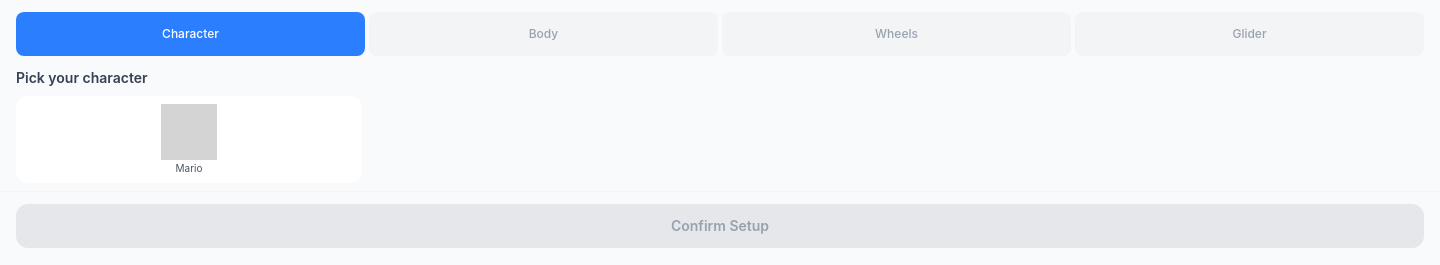
it: RaceSetupPicker › jumps directly to a step when its indicator pill is clicked
Click the button "Body": (544, 34) [369, 12, 718, 56]
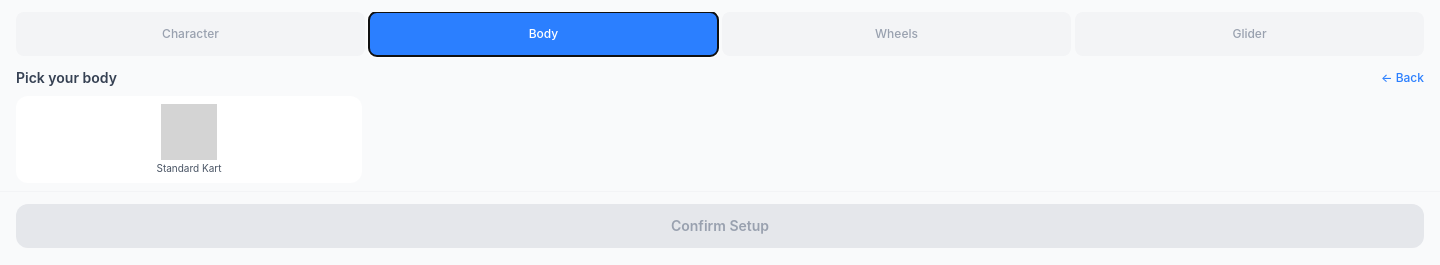
Expected: the heading "Pick your body" is shown, [16, 68, 117, 88]
